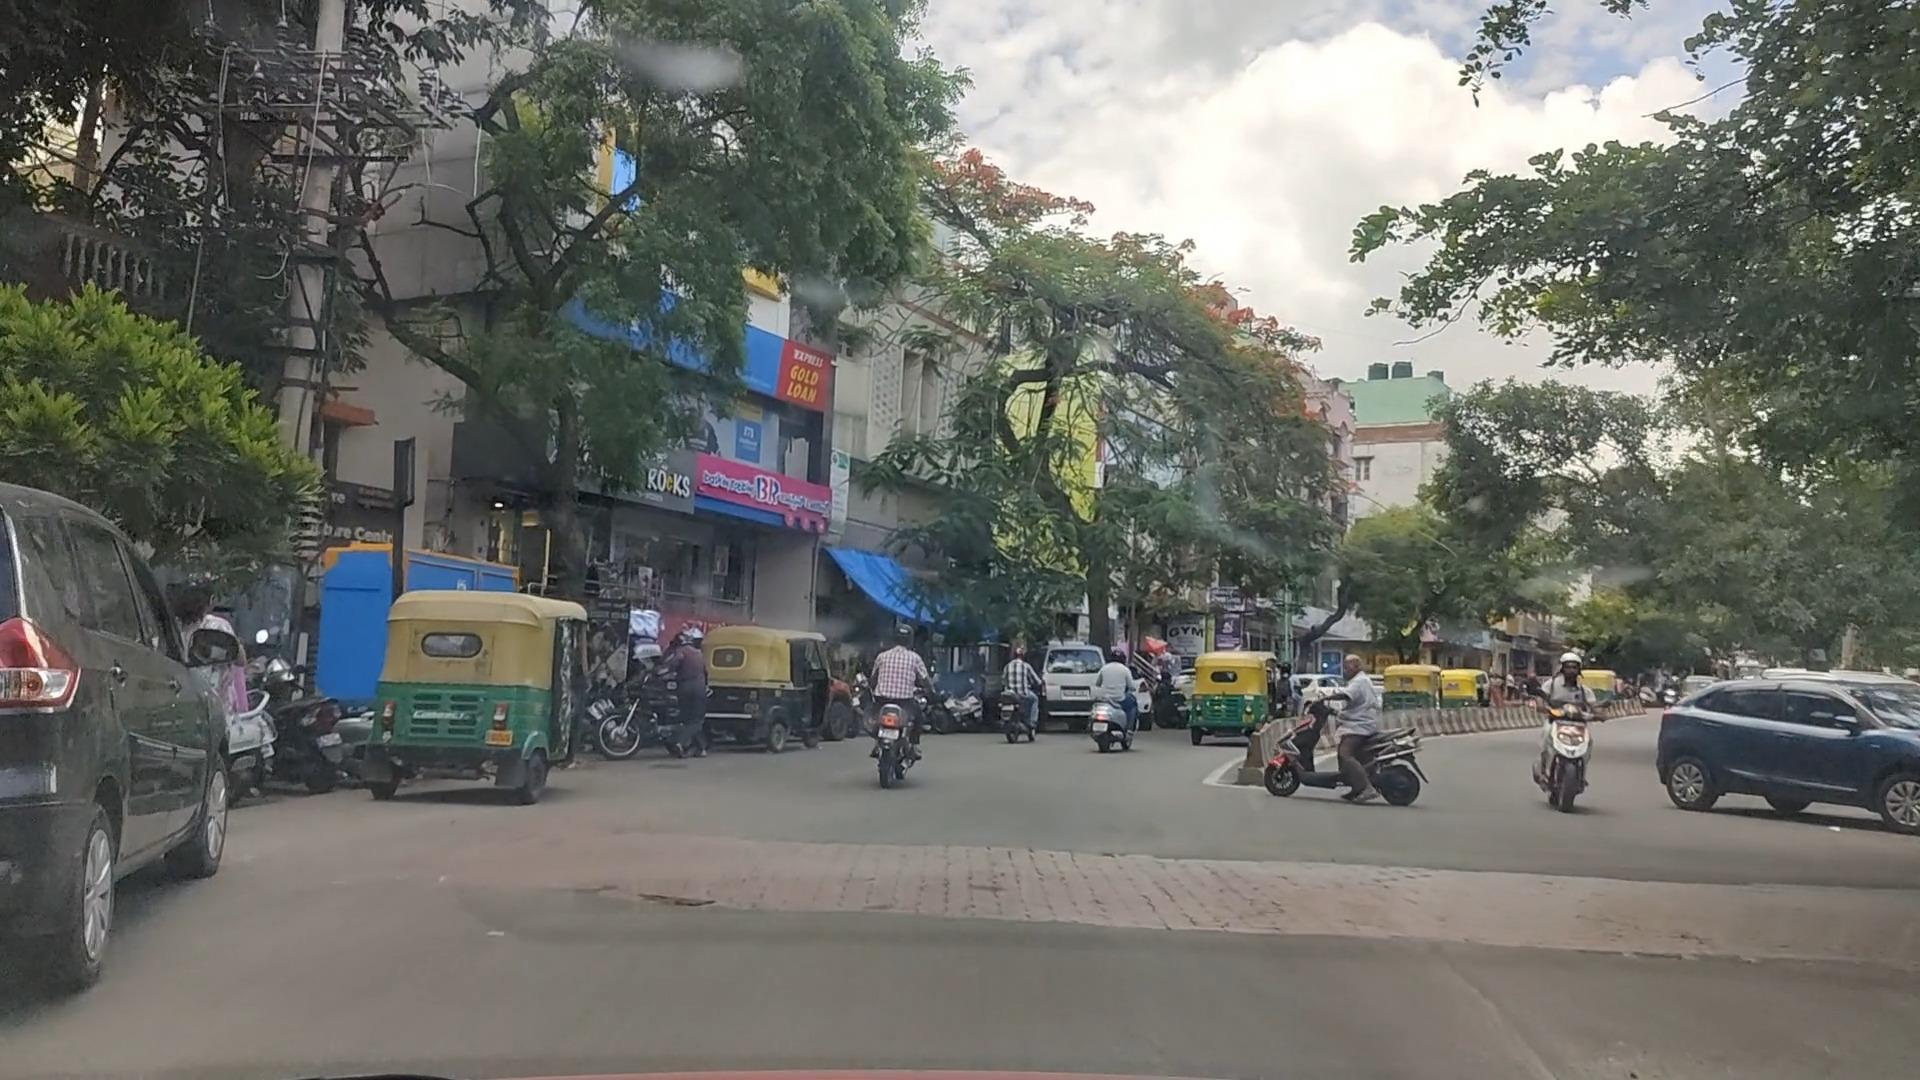LMV: (13, 496, 235, 998), (385, 605, 585, 816), (876, 638, 939, 804)
RoadDamages: (1425, 968, 1825, 1080)
SpeedBump: (365, 808, 1299, 972)
